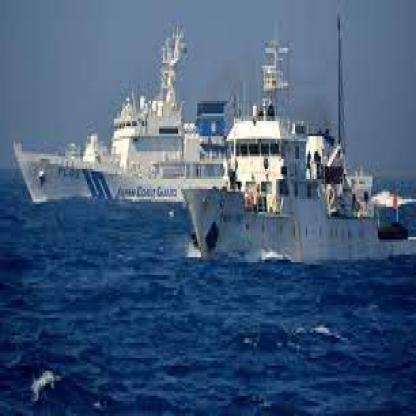fish-b: (174, 5, 415, 272), (9, 18, 238, 212)
